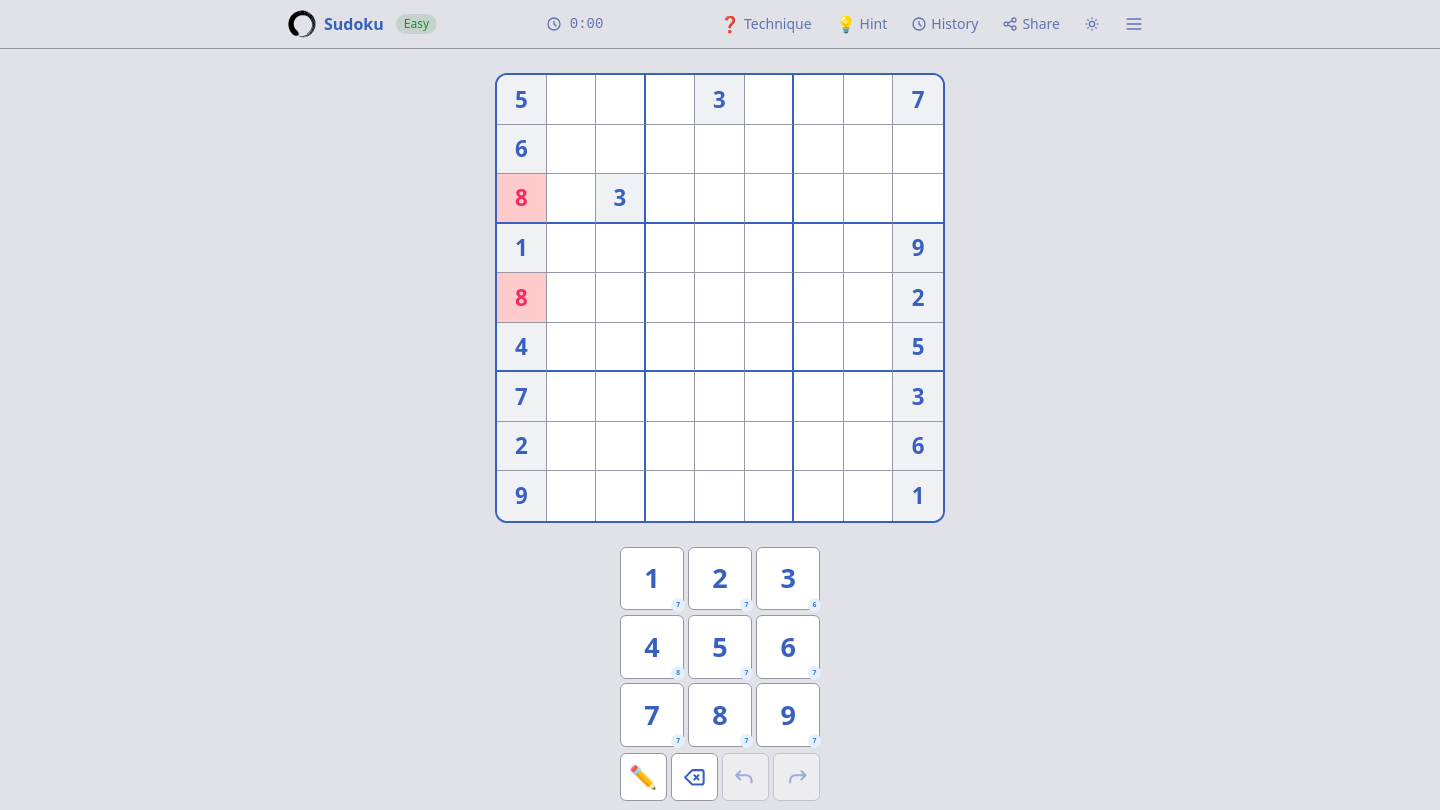
Game page render-test harness › hint path surfaces the mocked move › renders the hint toast and the primary highlight on the target cell
Expected: the 1st cell "5" is shown, [497,75,547,124]
The hint button's accessible name is "Get a hint" when idle.
Click the button with aria-label "Get a hint".
click(861, 24)  # box [828,6,895,42]
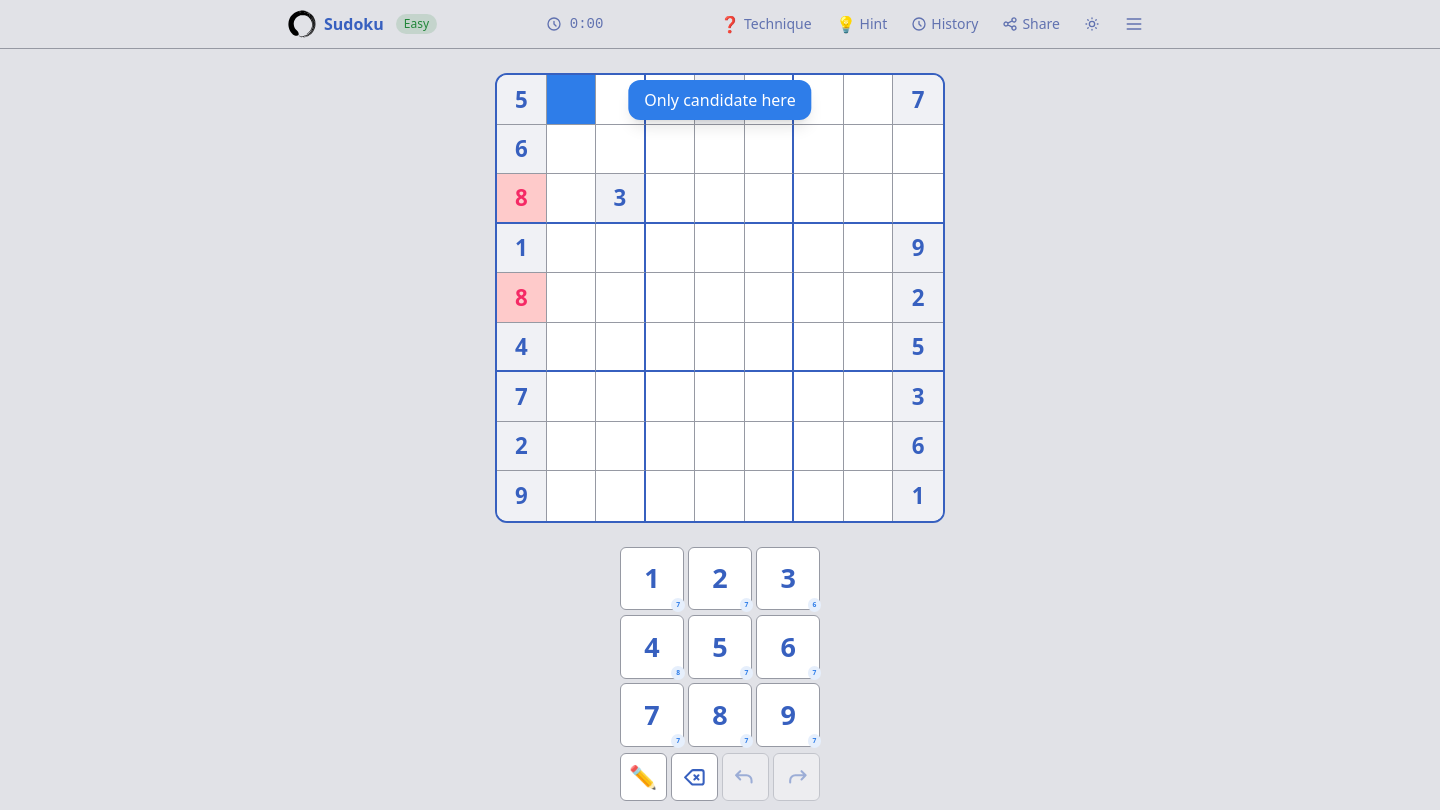
Now the text "Only candidate here" is shown, box [644,88,796,112]
